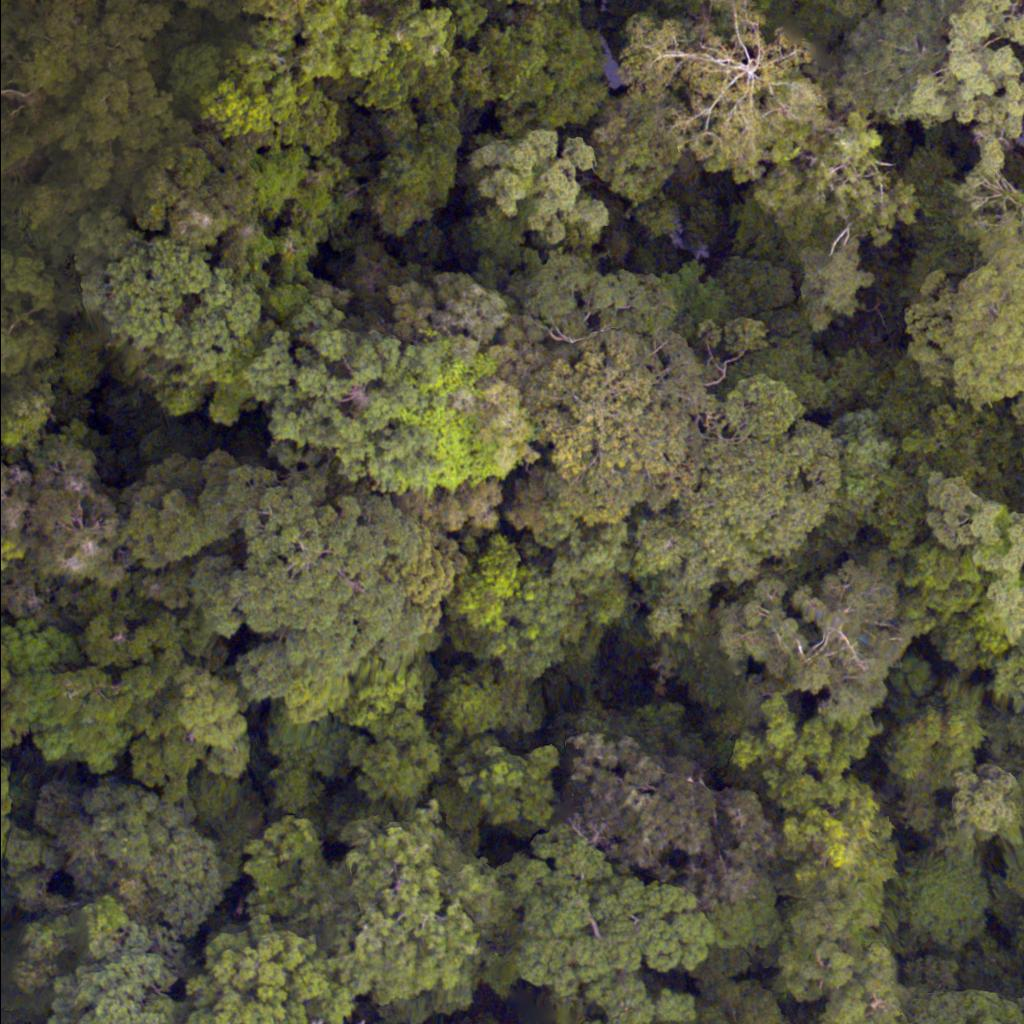crown: (195, 440, 470, 699), (243, 817, 494, 1023), (0, 0, 194, 244), (478, 824, 712, 1023), (547, 726, 771, 913), (665, 375, 854, 594), (631, 0, 843, 194), (707, 564, 930, 738), (538, 317, 711, 502), (31, 774, 233, 927), (775, 133, 922, 336), (86, 244, 267, 385), (898, 227, 1023, 420), (894, 0, 1023, 184), (0, 430, 115, 604), (461, 8, 622, 121), (922, 480, 1023, 641), (188, 927, 355, 1023), (43, 934, 183, 1023), (591, 88, 700, 193), (952, 763, 1023, 835), (710, 983, 809, 1023), (0, 765, 26, 870), (179, 0, 241, 20), (1022, 446, 1023, 457)
